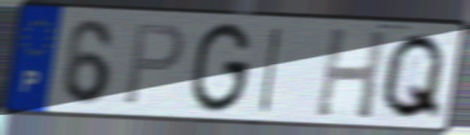6: (59, 17, 118, 109)
G: (186, 20, 255, 116)
H: (312, 25, 390, 123)
I: (256, 24, 286, 116)
P: (120, 22, 188, 109)
Q: (377, 30, 450, 123)
